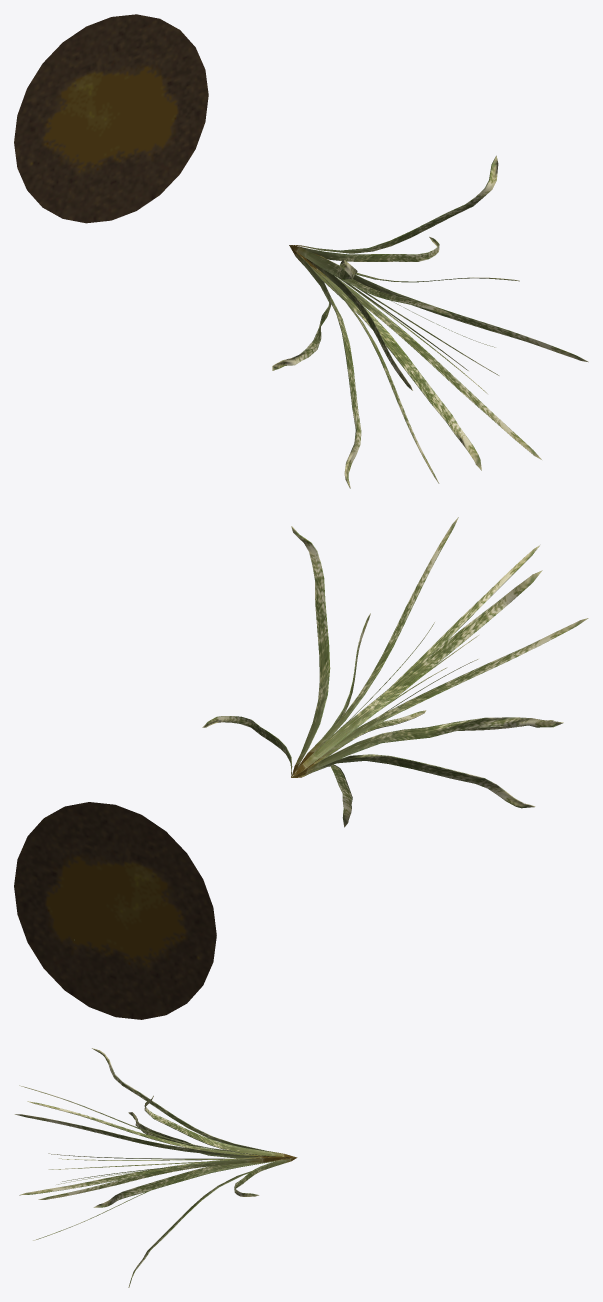
The model's file is MeshHouseplant_18_0_GeomSubset_2.obj.
3 renders of one model, top to bottom at view 1: azimuth 30°, elevation 25°; view 2: azimuth 150°, elevation 25°; view 3: azimuth 270°, elevation 25°, orthographic. The views are drawn at different scales.
Visible parts, largest first — view 1: MeshHouseplant_18_0_GeomSubset_2; view 2: MeshHouseplant_18_0_GeomSubset_2; view 3: MeshHouseplant_18_0_GeomSubset_2.
Boxes of the visible parts, x1,y1,x2,y2 form: MeshHouseplant_18_0_GeomSubset_2: (14, 14, 588, 488); MeshHouseplant_18_0_GeomSubset_2: (14, 517, 588, 1019); MeshHouseplant_18_0_GeomSubset_2: (14, 1048, 297, 1287).
Bounding box in the file's own units: 0.2436 × 0.2717 × 0.696.
Materials: 1 (1 with a texture image).
